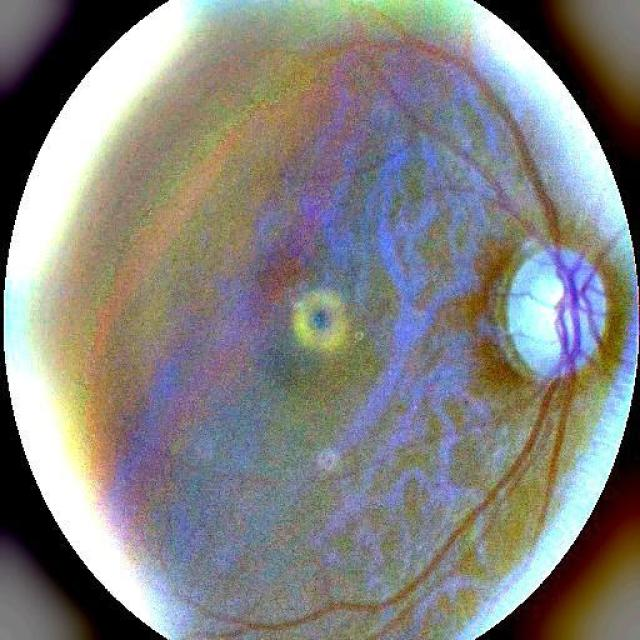Macula: (287, 286, 363, 368)
Nerves: (208, 273, 592, 639), (403, 26, 580, 272)
Optic Disk: (487, 244, 620, 403)
